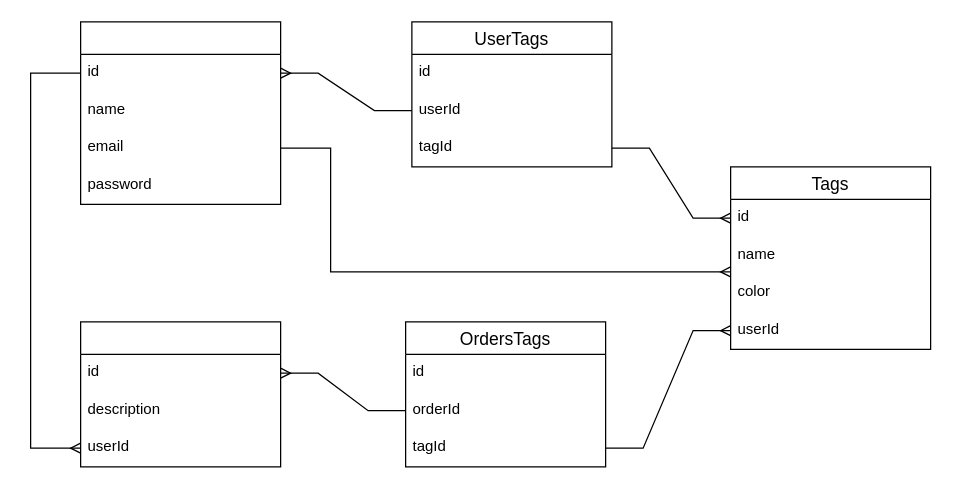
Some shapes in this 953 by 493 pixel diagram are drawn without their labels. The shapes that lost their labels are listed below. From the top down, each one's box as (x1, y1, x2, y2) in pixels, then its label:
(79, 21, 281, 204): Users
(79, 321, 281, 467): Orders
